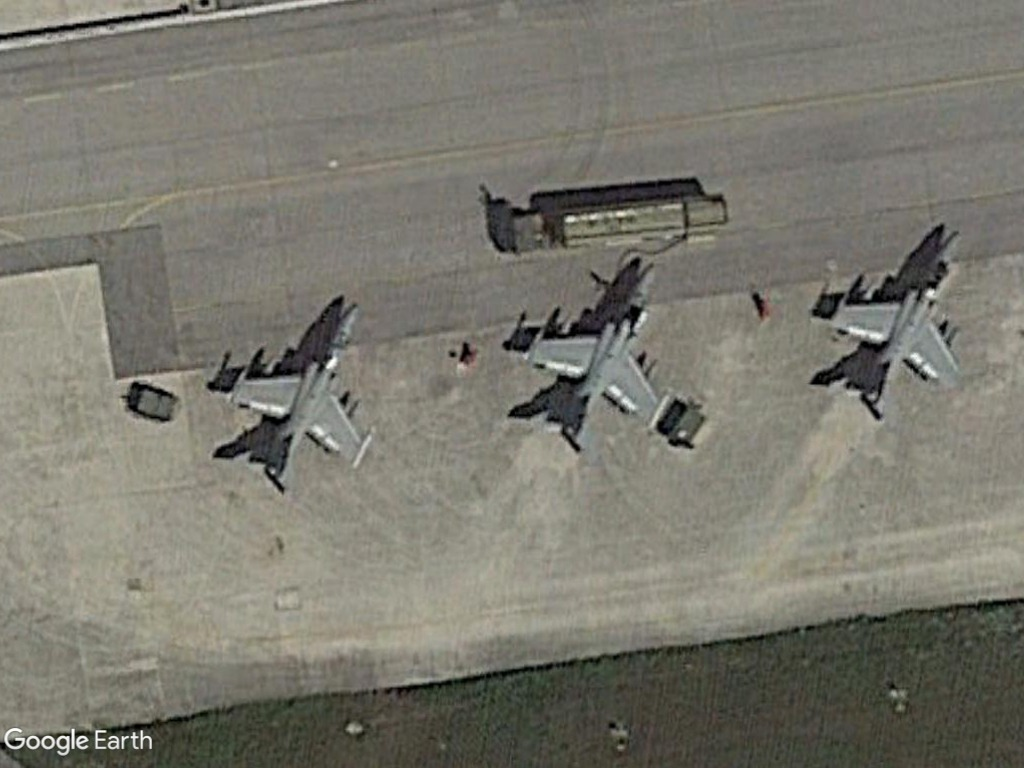fighter: (216, 295, 386, 499), (823, 222, 974, 437), (514, 258, 674, 459)
longvehicle: (494, 188, 736, 257)
